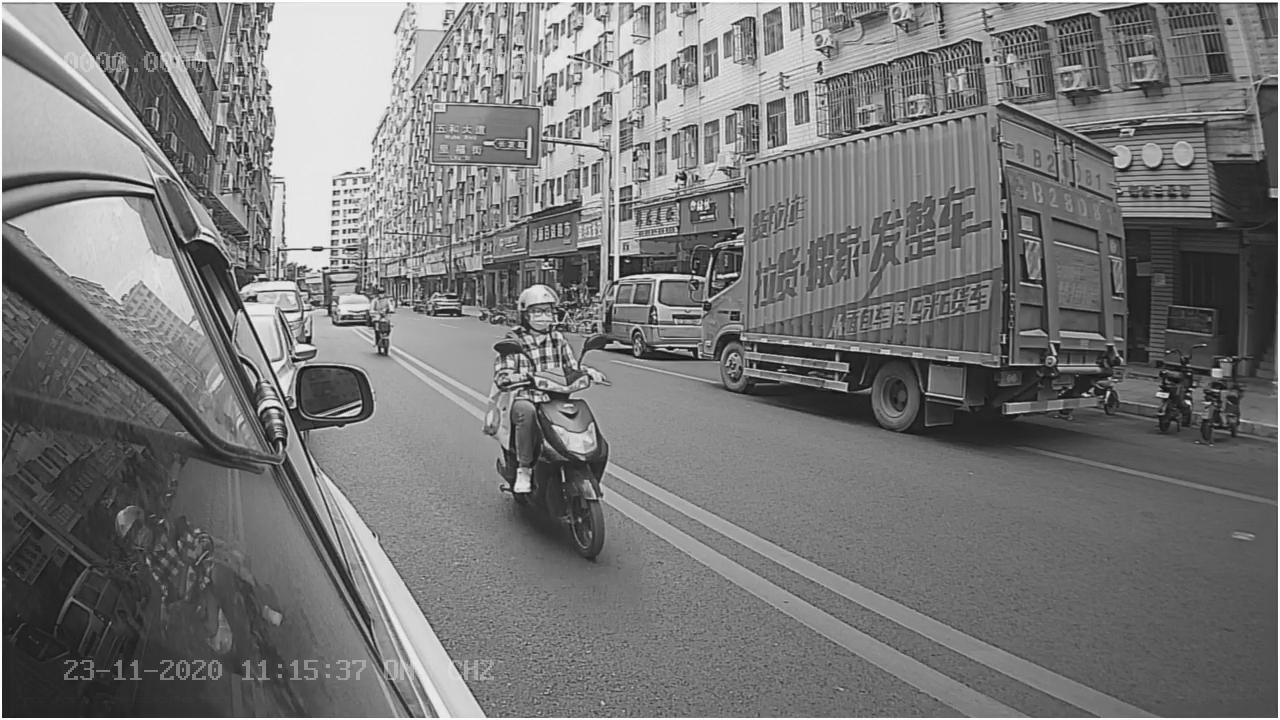person: (484, 281, 621, 378)
